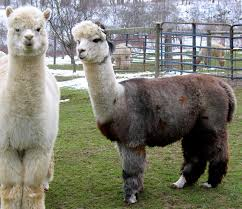alpaca: (70, 20, 237, 203), (1, 3, 60, 209)
